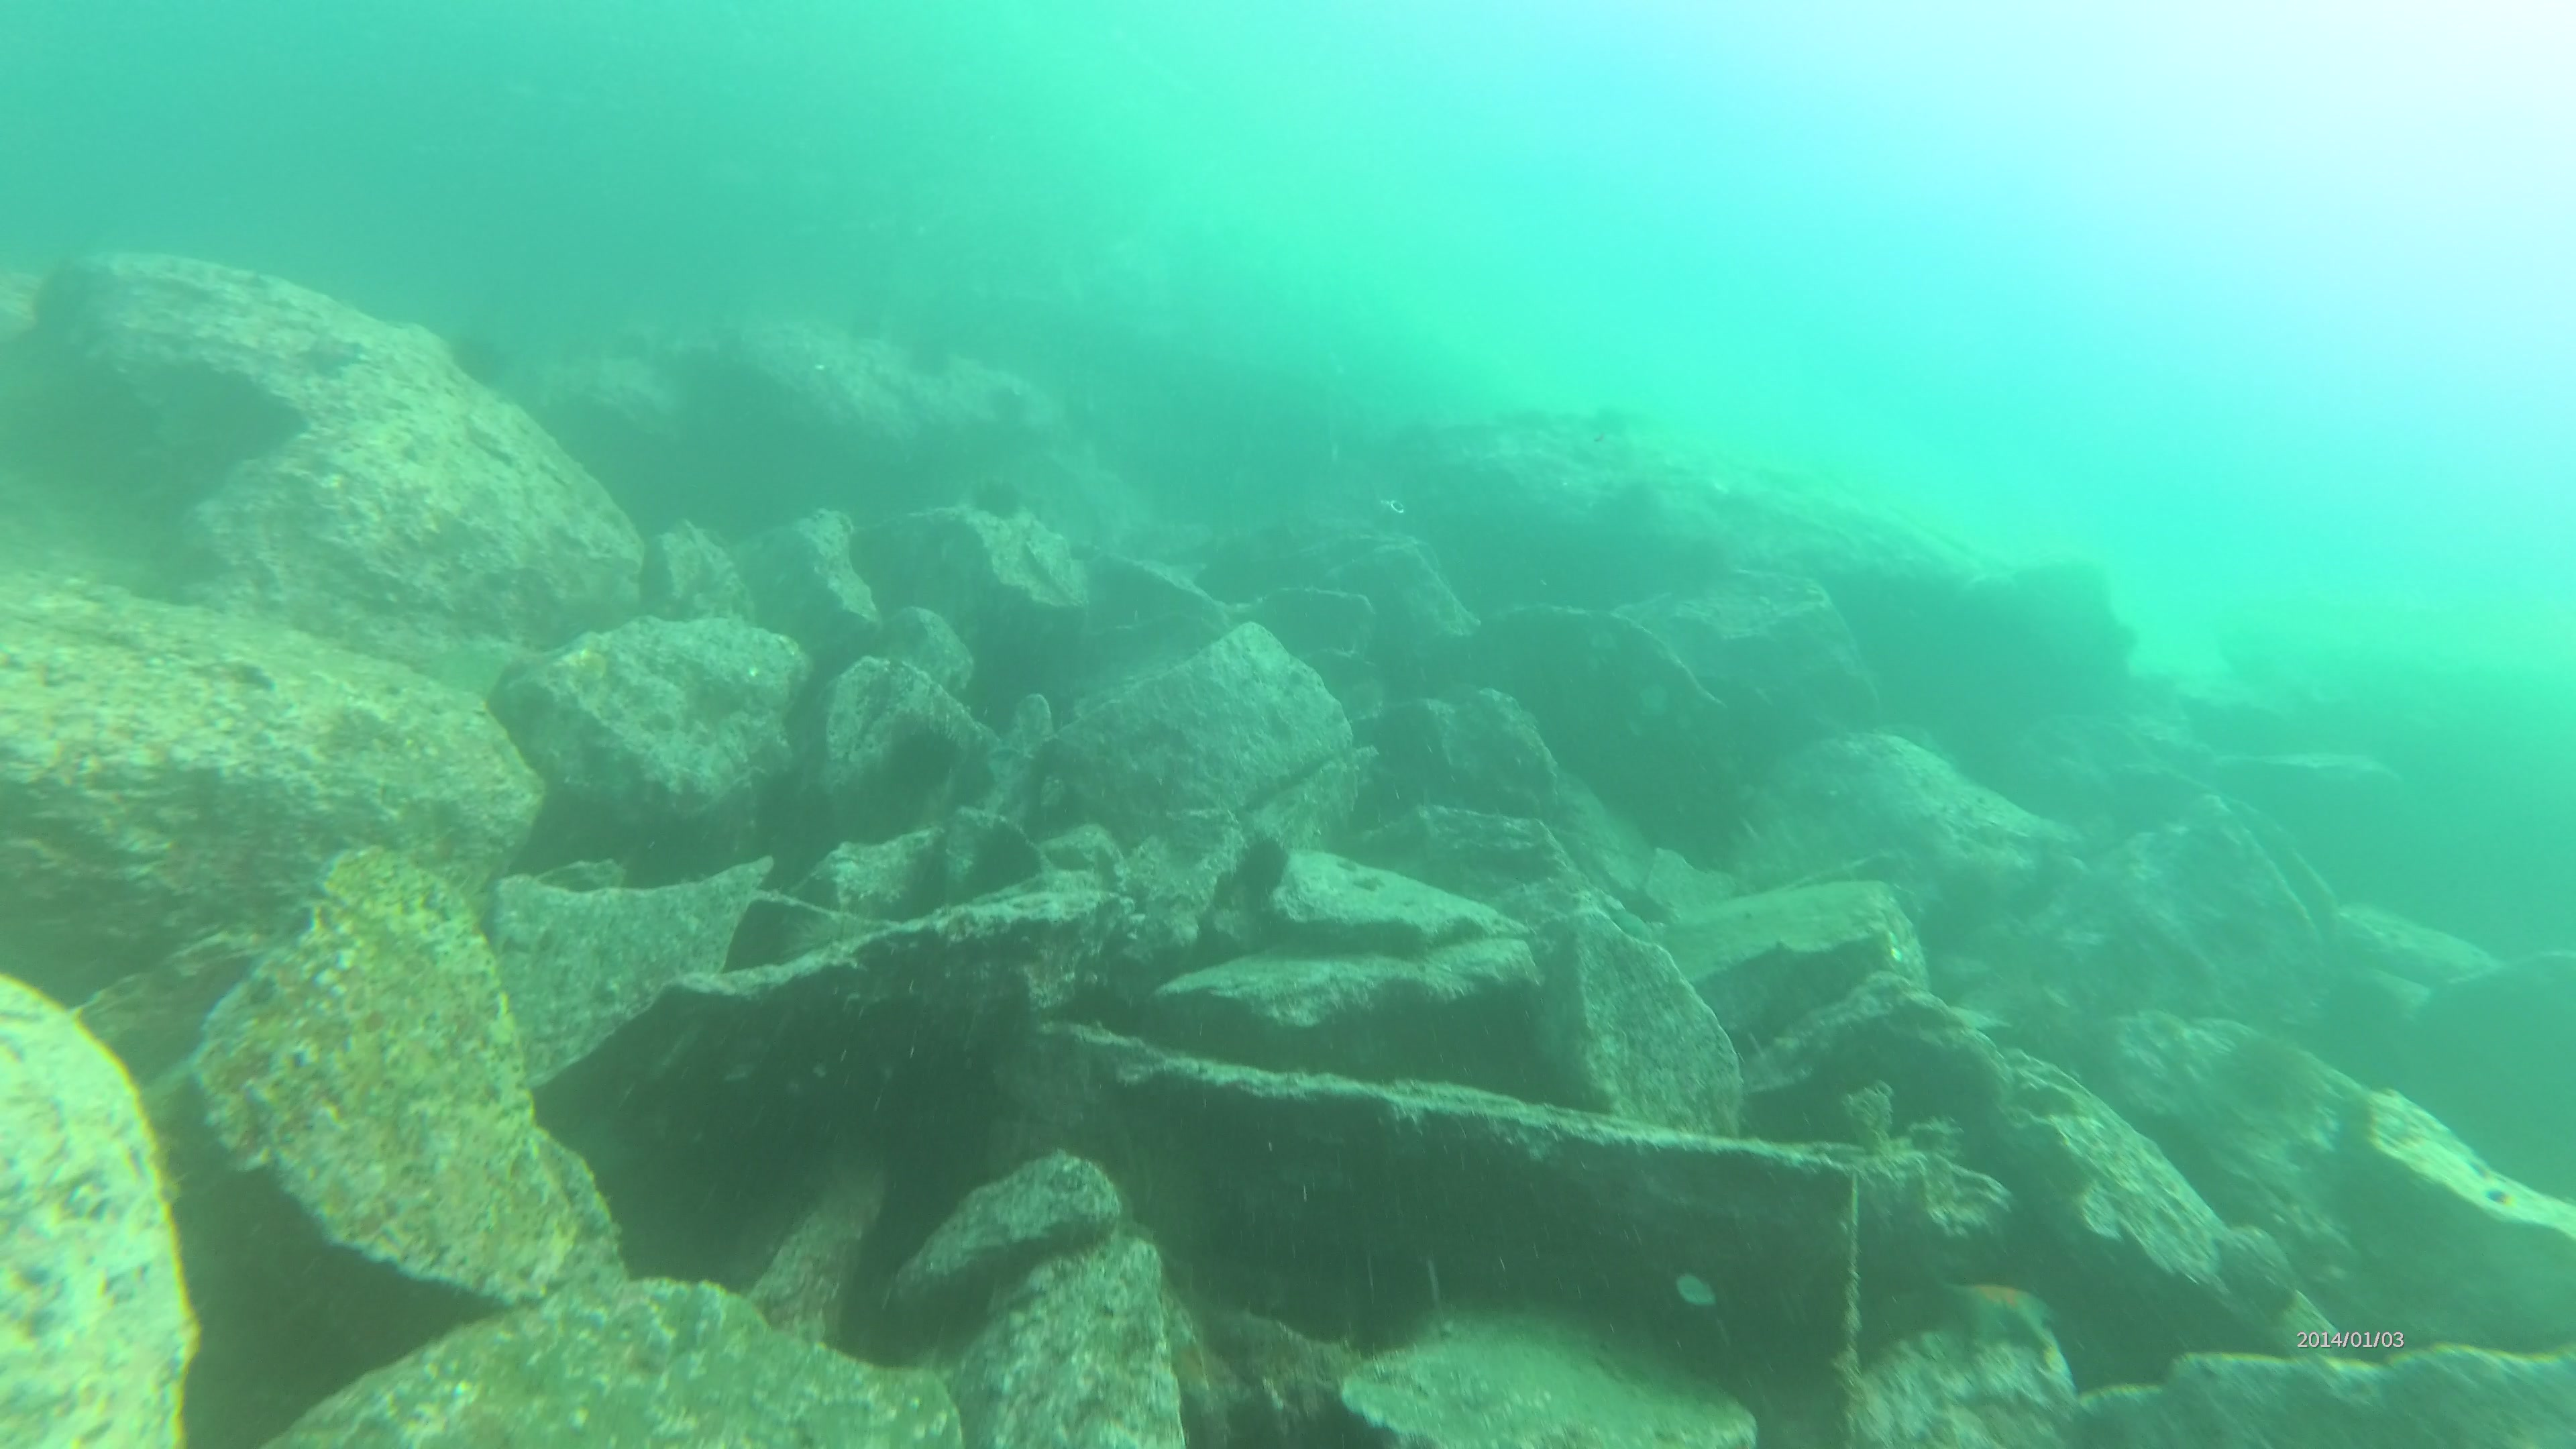echinus: (1233, 824, 1297, 913)
starfish: (1936, 1272, 2063, 1362)
